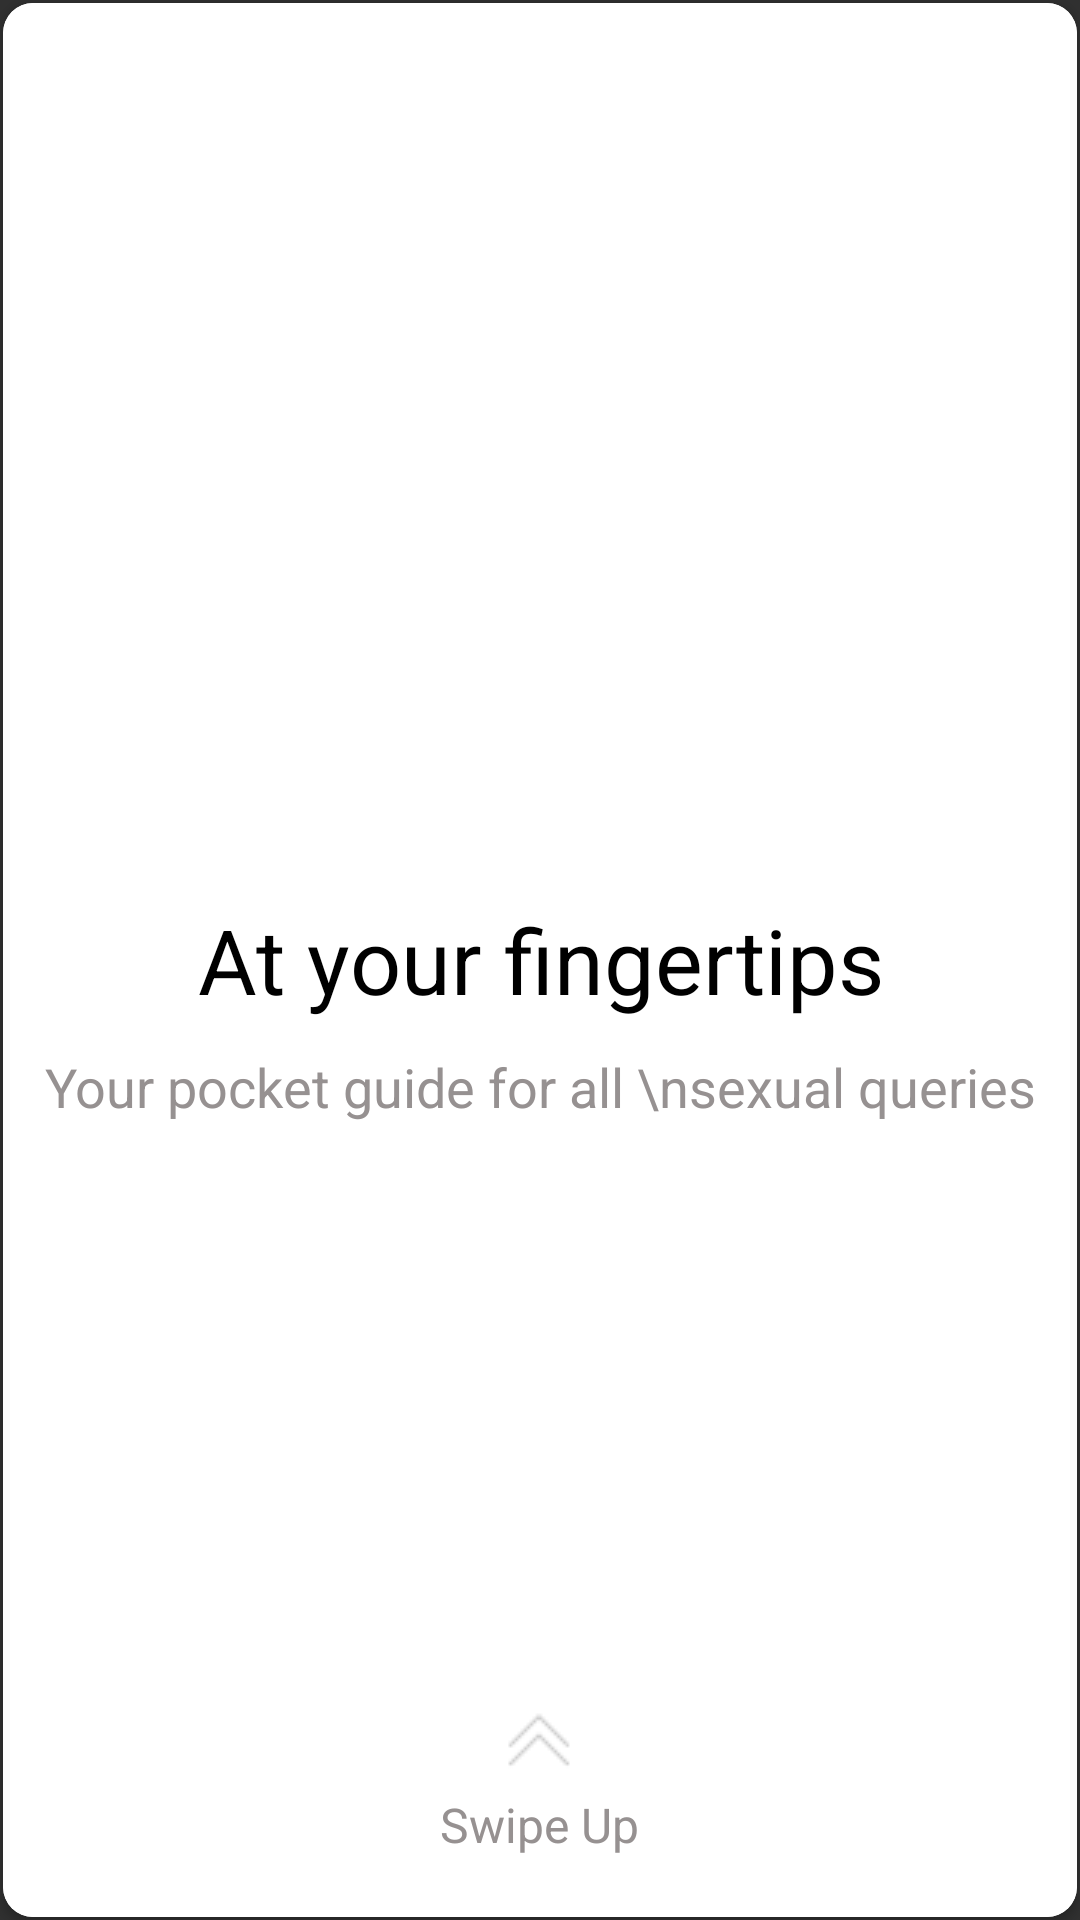

Named icons in this screenshot (1080px x 1920px) and their centers, point (x, y):
arrowup: point (539, 1740)
